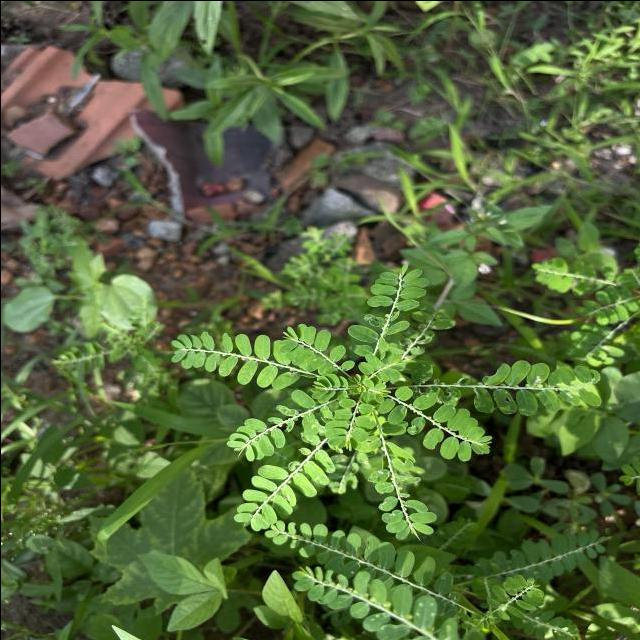Phyllanthus niruri: (261, 516, 456, 604), (230, 441, 340, 533), (374, 385, 492, 462), (468, 356, 608, 416), (168, 330, 300, 392), (225, 388, 332, 462), (346, 266, 435, 348), (277, 322, 354, 374)
